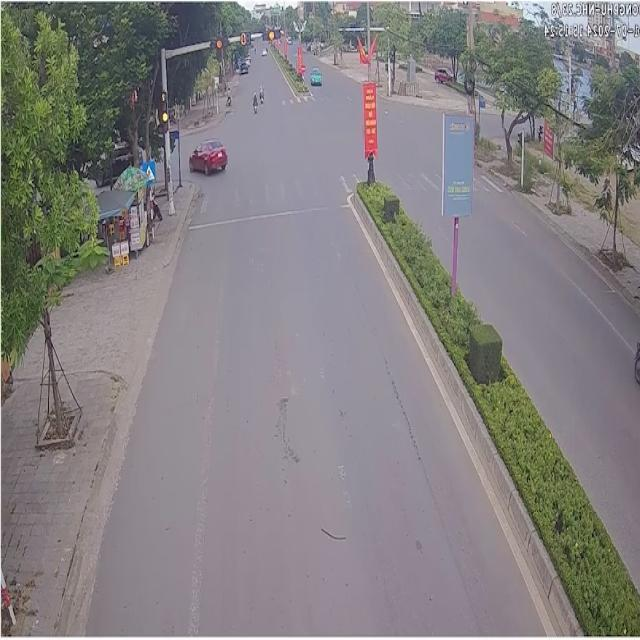car: (188, 136, 226, 173), (308, 64, 319, 84)
motobike: (250, 90, 257, 111)
stop_line: (188, 203, 346, 227)
yellow_light: (208, 35, 227, 53), (260, 28, 281, 41), (161, 90, 167, 126), (238, 32, 251, 42)
